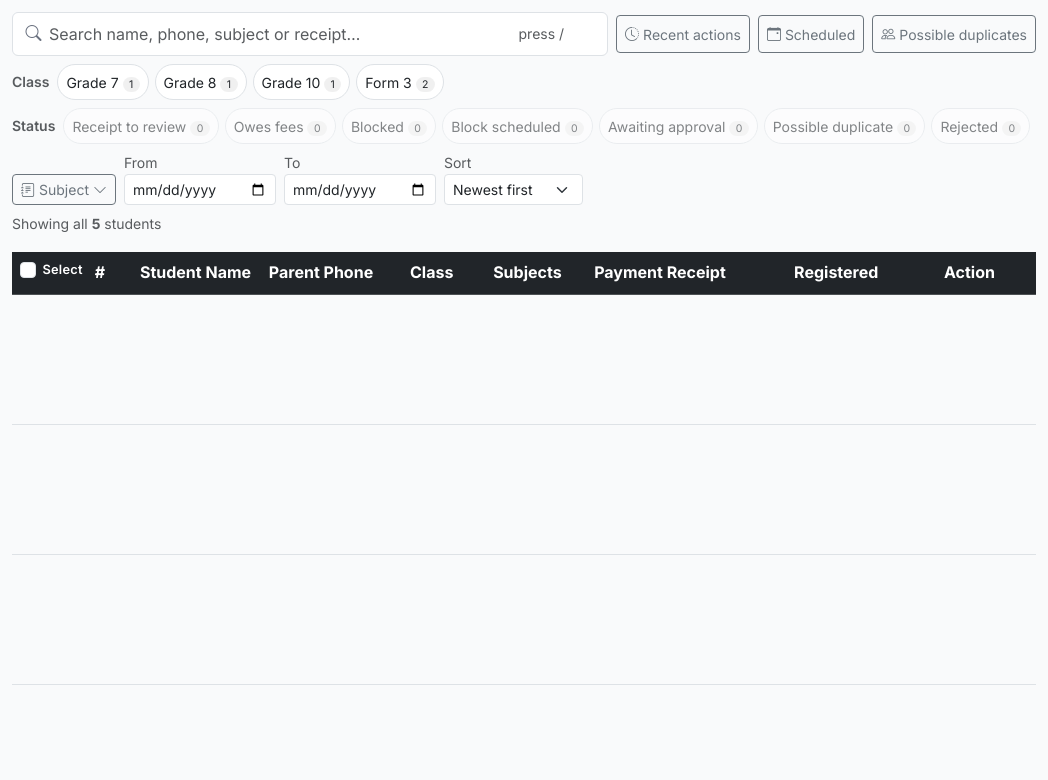
it: the search box and class chips › active filters appear as removable chips; Clear all resets everything
Click the button "Form 3 2" at (400, 82), box [356,64,444,100]
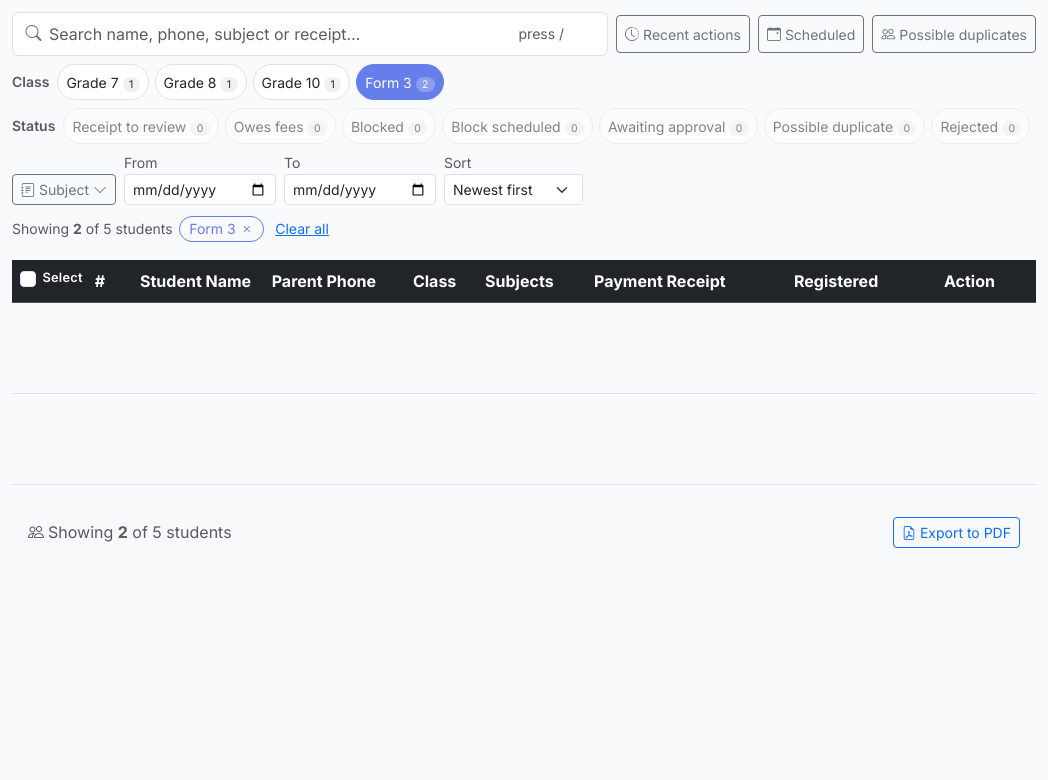
Type "brian" into the search field named "Search students" at (310, 34), box [12,12,608,56]
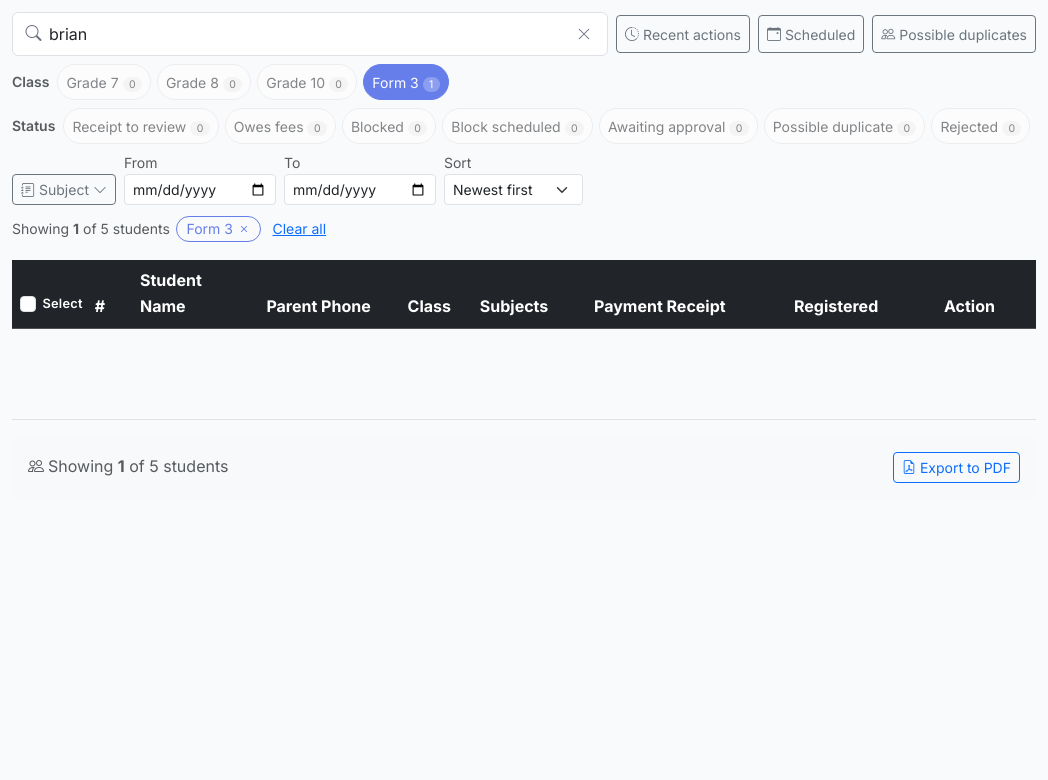
Click the button with aria-label "Remove filter Form 3" at (219, 229), box [176,216,262,242]
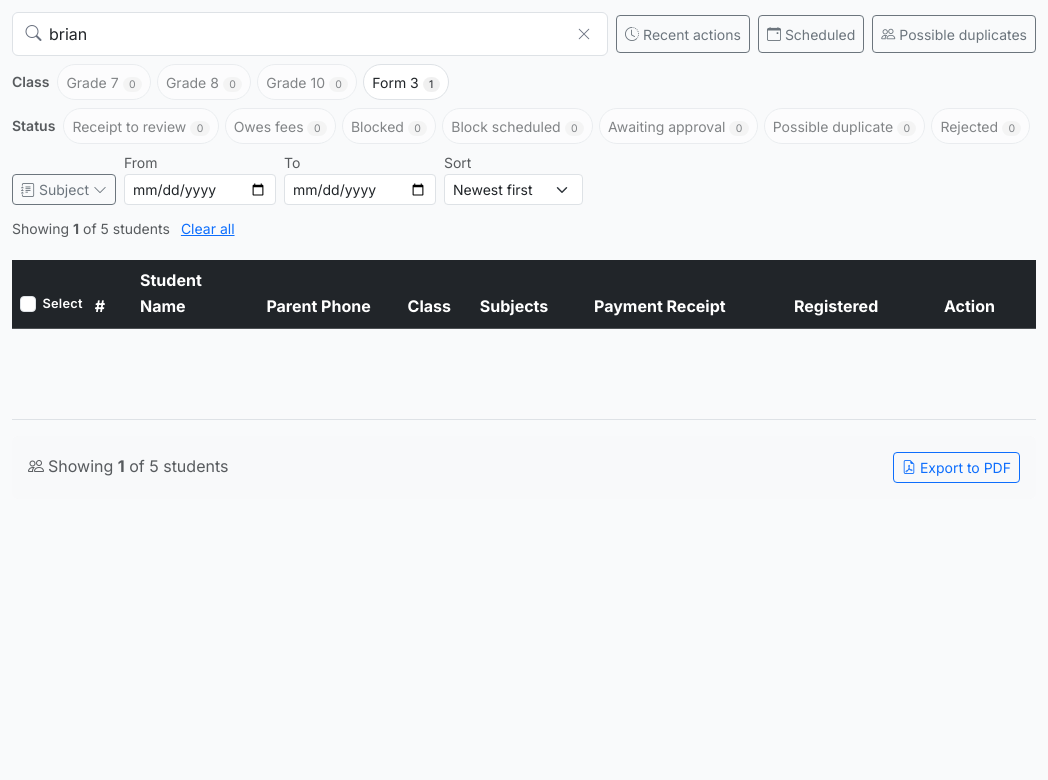
expect the button "Form 3 1" is not pressed: met, box [363,64,449,100]
Click the button "Clear all" at (208, 229), box [176,213,240,244]
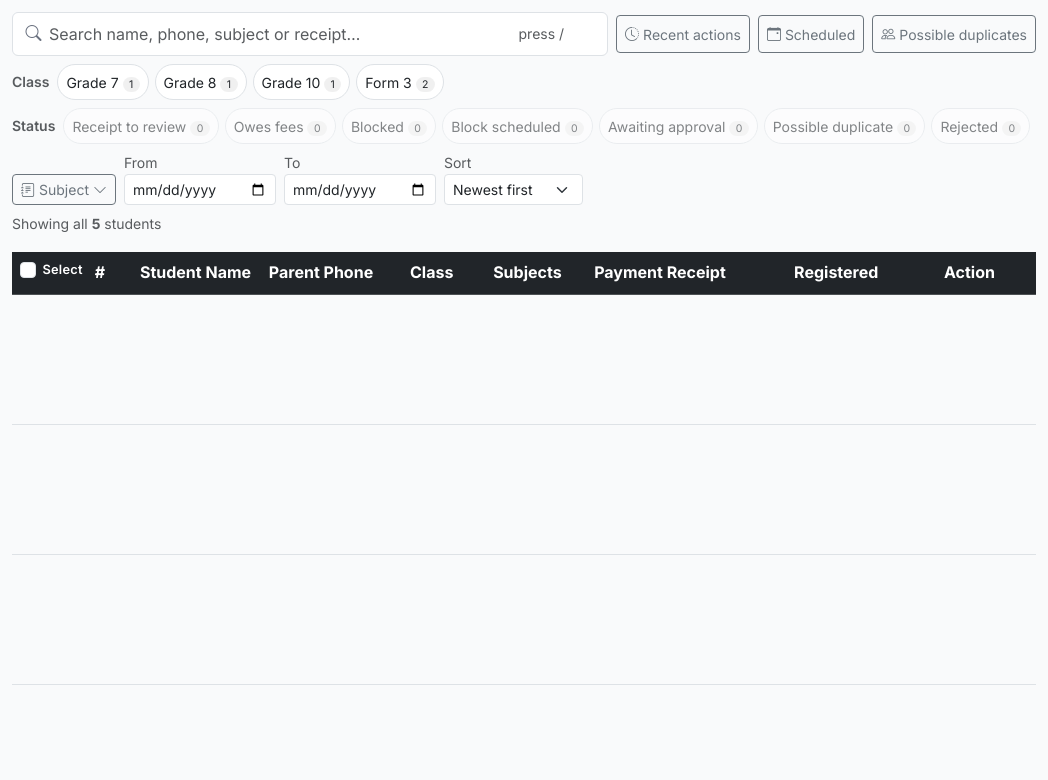
expect the search field named "Search students" is empty: met, box [12,12,608,56]
